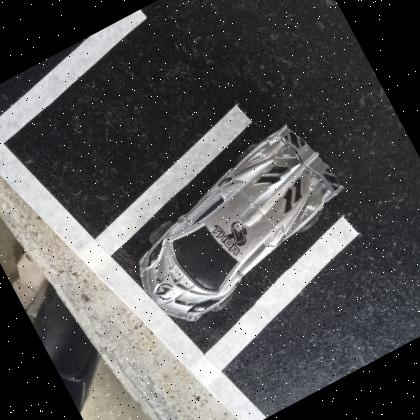Car: (140, 129, 343, 323)
